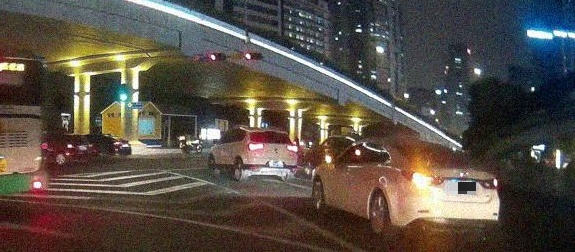L_light: (400, 170, 444, 187), (247, 142, 264, 151)
R_light: (477, 177, 498, 189), (286, 145, 299, 153)
T_light: (420, 145, 438, 148), (264, 130, 275, 134)
night-left: (388, 138, 501, 243)
night-no: (242, 129, 300, 182)
plate_1: (449, 182, 476, 194)
